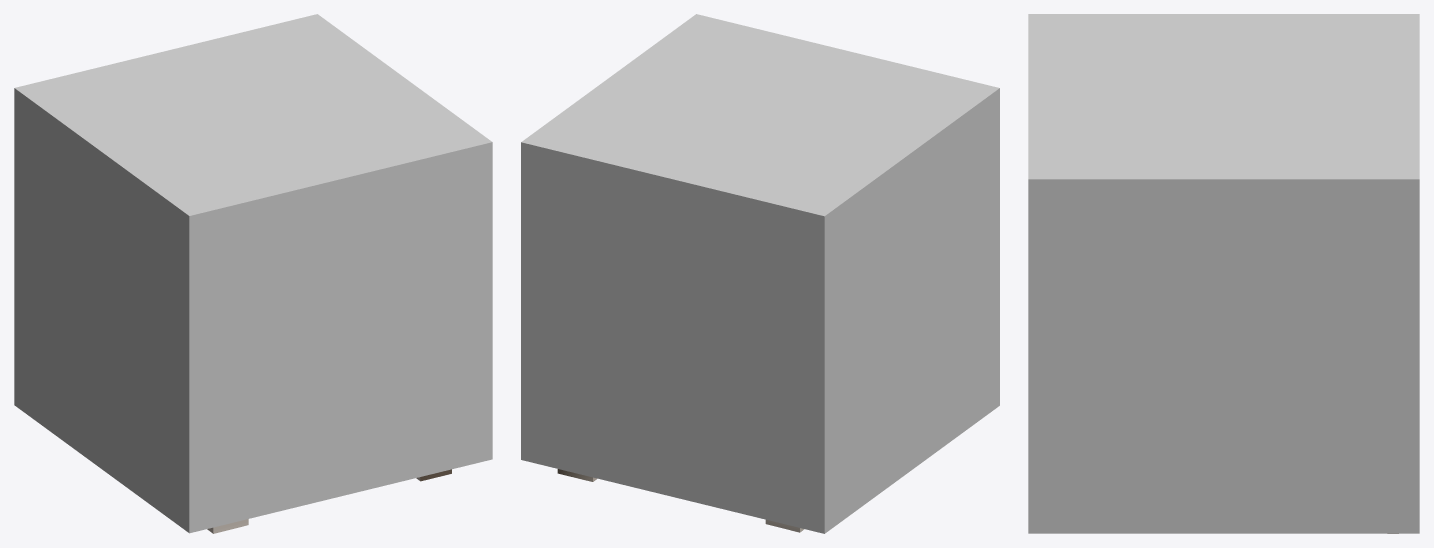
File: 1castle.fbx
The picture shows the model from 3 angles, left to right: view 1: azimuth 30°, elevation 25°; view 2: azimuth 150°, elevation 25°; view 3: azimuth 270°, elevation 25°; orthographic projection. The views are drawn at different scales.
Visible parts, largest first — view 1: Cube.003; view 2: Cube.003; view 3: Cube.003.
Part boxes in pixels (x1,y1,x2,y2): Cube.003: [14, 14, 492, 533]; Cube.003: [521, 14, 999, 533]; Cube.003: [1028, 14, 1419, 533].
Bounding box in the file's own units: 1708 × 1791 × 1708.
